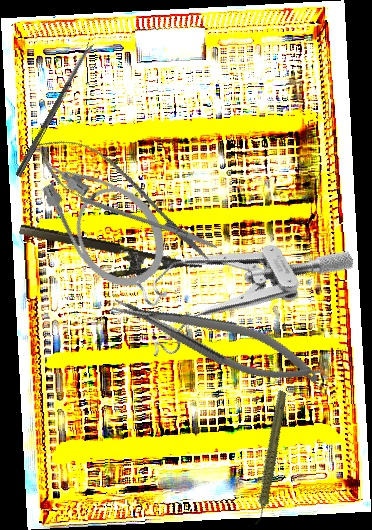Cannula: (20, 124, 183, 304)
Handpiece: (224, 389, 314, 526)
Micro Scissor: (23, 121, 228, 276)
Needle Holder: (107, 276, 326, 401), (13, 222, 204, 298)
Speculum: (117, 182, 357, 376)
Surgical Spoon: (15, 41, 95, 178)
